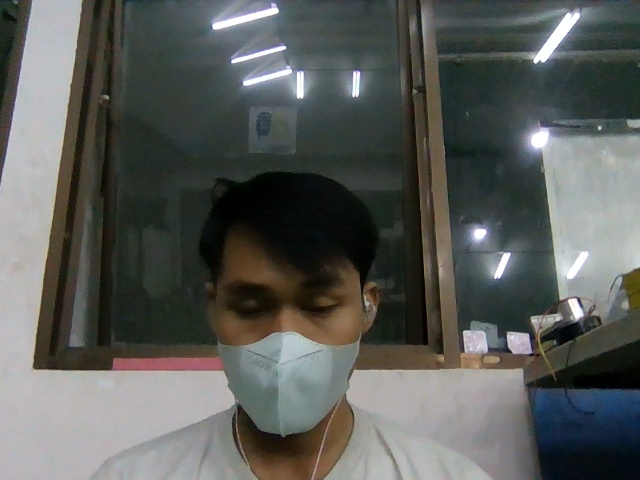mask_on: (218, 332, 360, 436)
